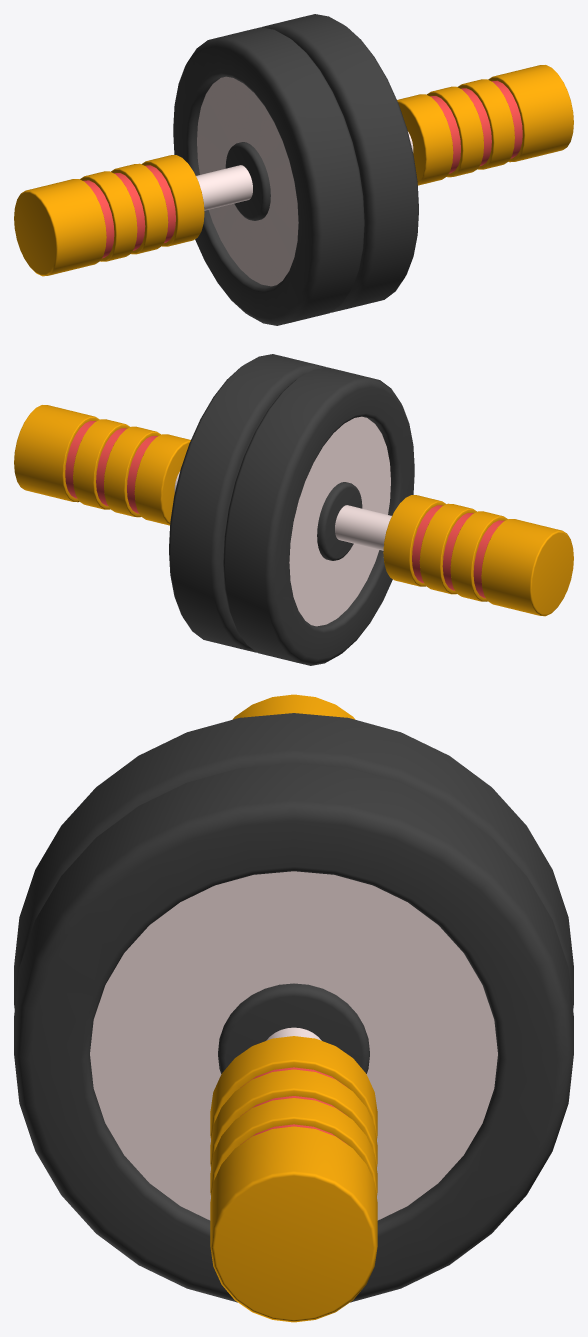
File: Public_18_Roller_Wheel_1.glb
3 views of the same model, one above another, from view 1: azimuth 30°, elevation 25°; view 2: azimuth 150°, elevation 25°; view 3: azimuth 270°, elevation 25° (orthographic). The views are drawn at different scales.
Parts seen in each view (by area): view 1: Public_18_Roller_Wheel_1; view 2: Public_18_Roller_Wheel_1; view 3: Public_18_Roller_Wheel_1.
Boxes of the visible parts, x1,y1,x2,y2 form: Public_18_Roller_Wheel_1: [14, 14, 573, 325]; Public_18_Roller_Wheel_1: [14, 354, 573, 665]; Public_18_Roller_Wheel_1: [14, 694, 573, 1322].
Size of the model in its own units: 2.52 by 1.25 by 1.25.
1 material, 1 textured.
